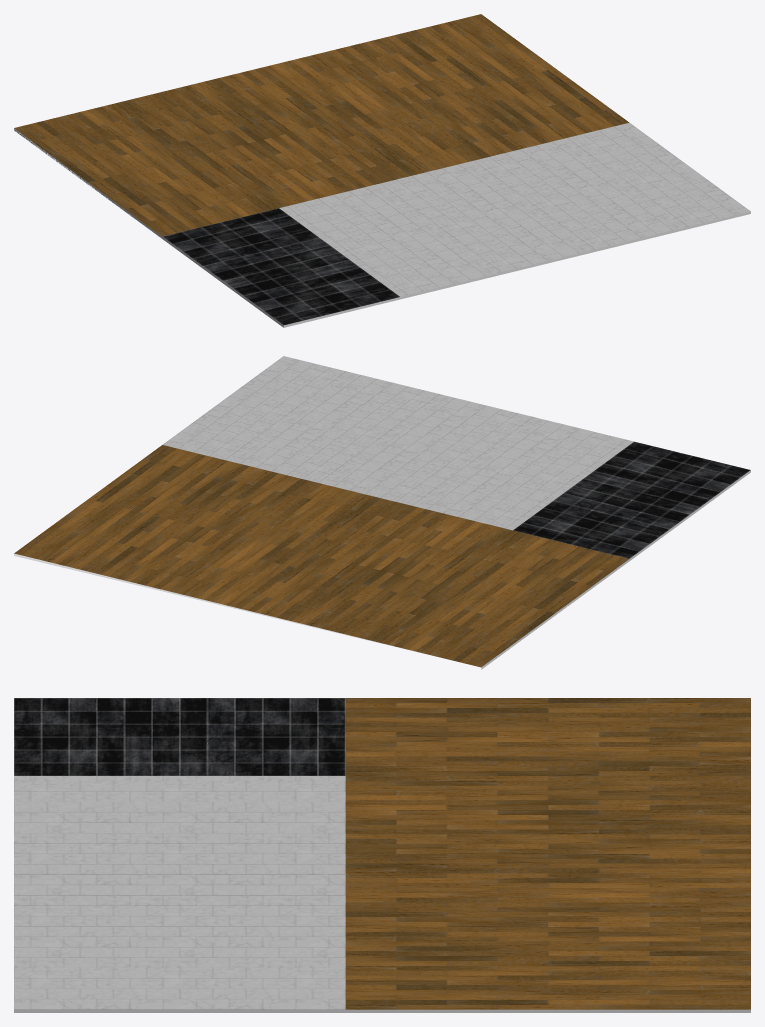
The model's file is Floor.fbx.
3 views of the same model, one above another, from view 1: azimuth 30°, elevation 25°; view 2: azimuth 150°, elevation 25°; view 3: azimuth 270°, elevation 25° (orthographic). The views are drawn at different scales.
Parts seen in each view (by area): view 1: Plane; view 2: Plane; view 3: Plane.
Boxes of the visible parts, <box> form: Plane: <box>14,14,750,327</box>; Plane: <box>14,356,750,669</box>; Plane: <box>14,698,750,1012</box>.
Size of the model in its own units: 2000 by 2000 by 10.
Materials: 4 (3 with a texture image).
